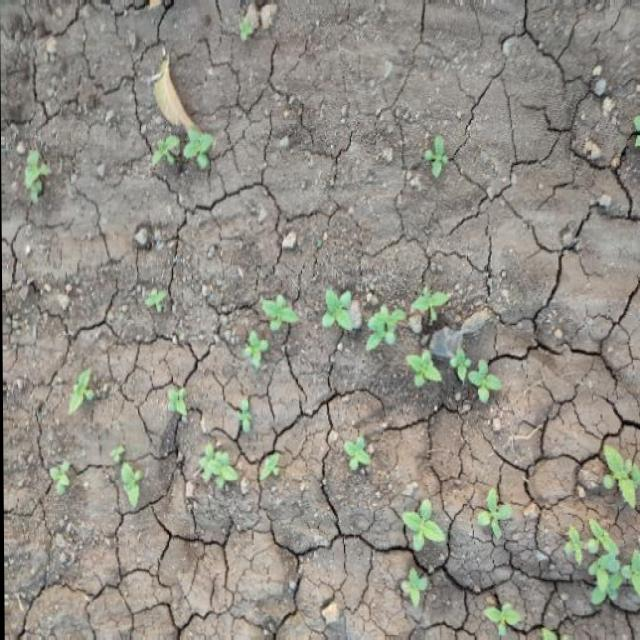crop: (313, 273, 512, 405), (364, 287, 509, 408), (382, 484, 523, 564), (540, 505, 640, 614), (36, 440, 152, 519), (189, 435, 299, 503), (236, 289, 302, 381), (132, 129, 222, 175), (17, 135, 59, 225), (60, 355, 113, 424), (412, 125, 468, 190), (147, 380, 200, 419)
